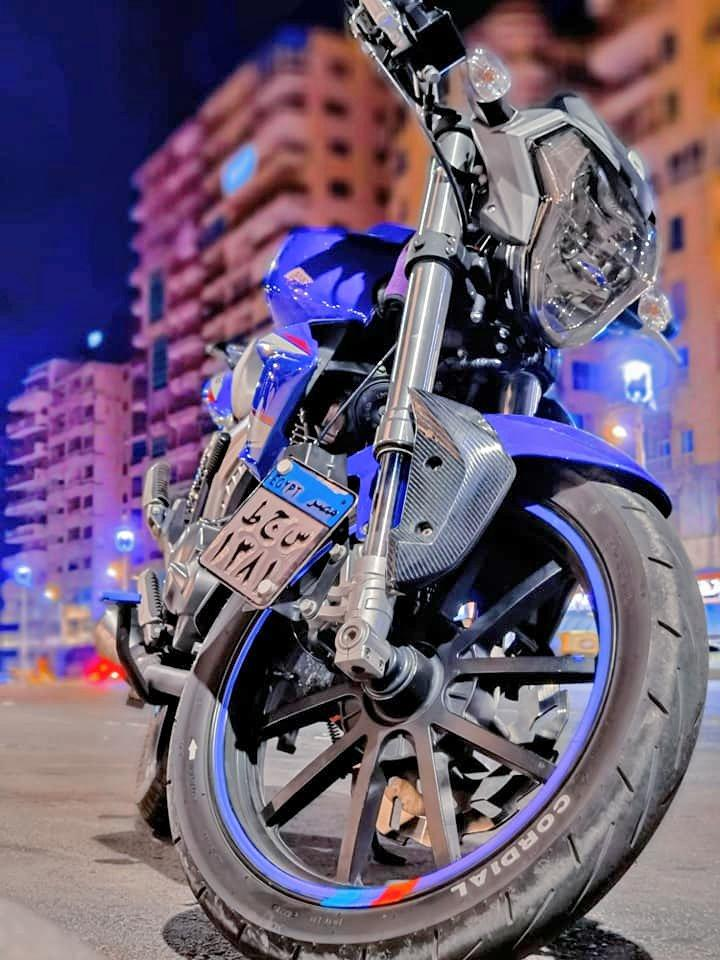License Plate: (188, 460, 356, 600)
